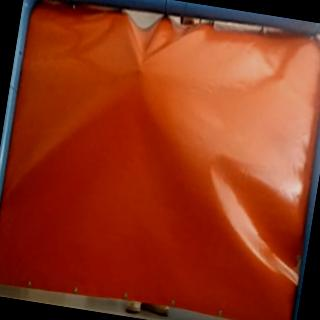Hit-hRxx: (134, 62, 146, 76)
